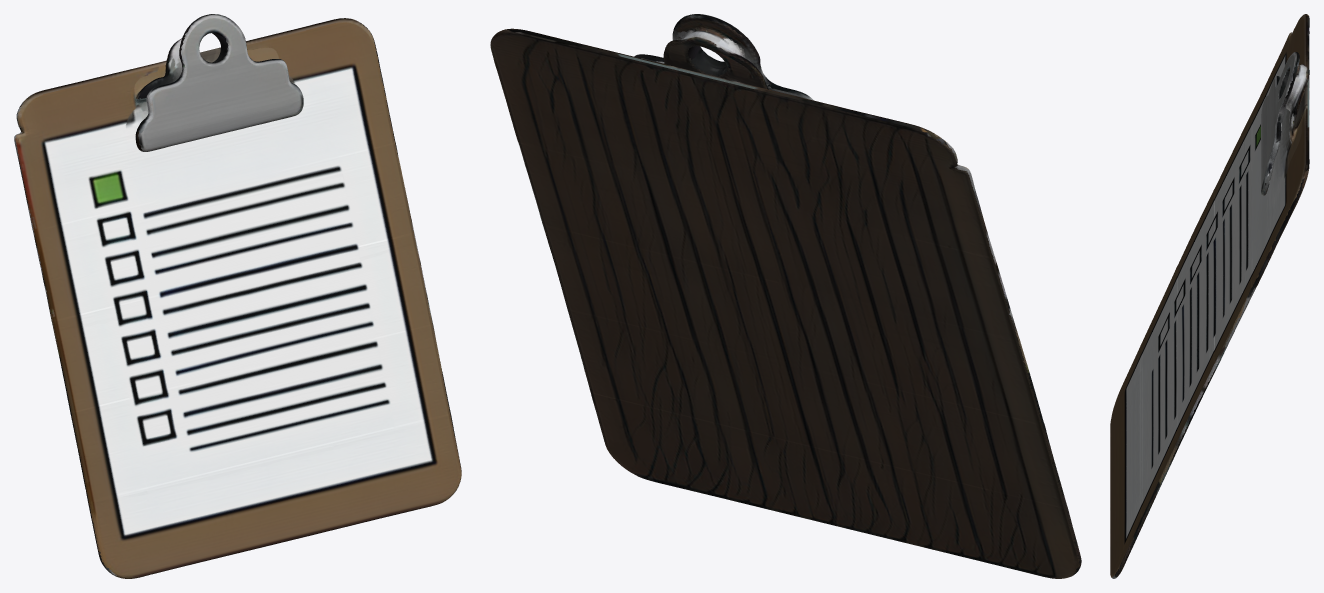
Rendered from hunyuan_checklist_clipboard_textured.glb.
3 views of the same model, side by side, from view 1: azimuth 30°, elevation 25°; view 2: azimuth 150°, elevation 25°; view 3: azimuth 270°, elevation 25° (orthographic). The views are drawn at different scales.
Visible parts, largest first — view 1: tmpeeud1ty3.ply; view 2: tmpeeud1ty3.ply; view 3: tmpeeud1ty3.ply.
Part boxes in pixels (x1,y1,x2,y2): tmpeeud1ty3.ply: (14, 14, 461, 578); tmpeeud1ty3.ply: (490, 14, 1081, 578); tmpeeud1ty3.ply: (1110, 14, 1309, 578).
Bounding box in the file's own units: 1.66 × 1.99 × 0.7925.
1 material, 1 textured.
